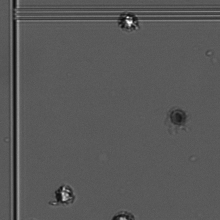Dead Cell: (163, 104, 192, 133)
Living Cell: (116, 10, 144, 38), (53, 182, 80, 209)
